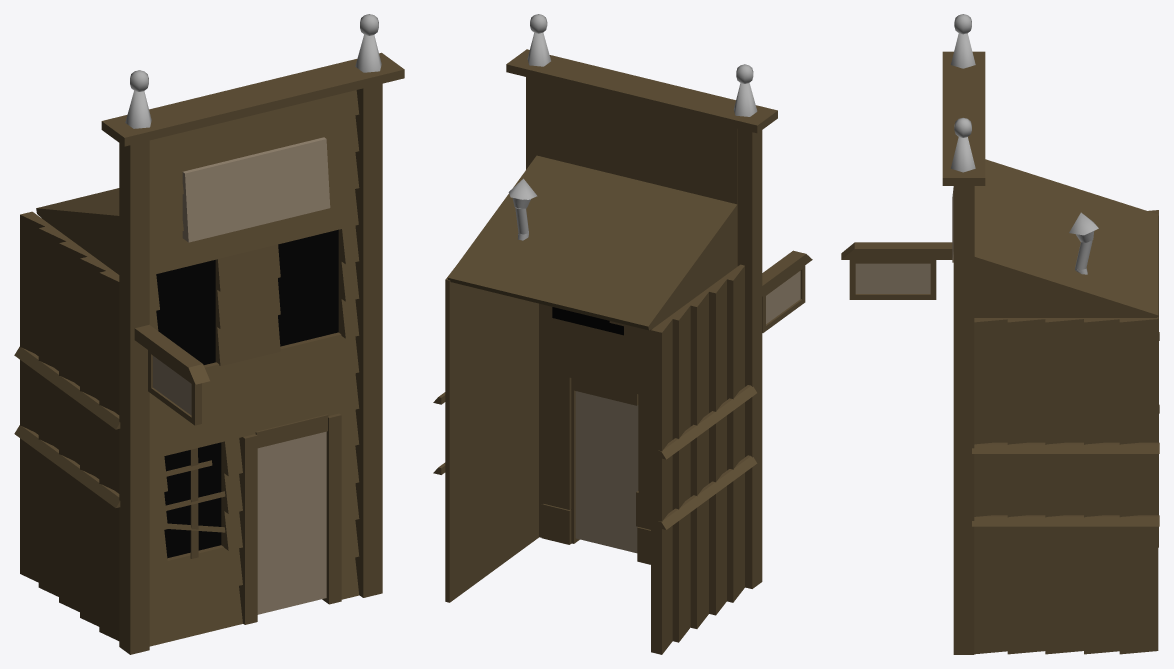
The model's file is SM_Building01.fbx.
The picture shows the model from 3 angles, left to right: view 1: azimuth 30°, elevation 25°; view 2: azimuth 150°, elevation 25°; view 3: azimuth 270°, elevation 25°; orthographic projection. The views are drawn at different scales.
Parts seen in each view (by area): view 1: Building01; view 2: Building01; view 3: Building01.
Part boxes in pixels (bbox=[...]): Building01: bbox=[14, 14, 404, 654]; Building01: bbox=[433, 14, 812, 654]; Building01: bbox=[841, 14, 1159, 654].
Size of the model in its own units: 472 by 928 by 503.
